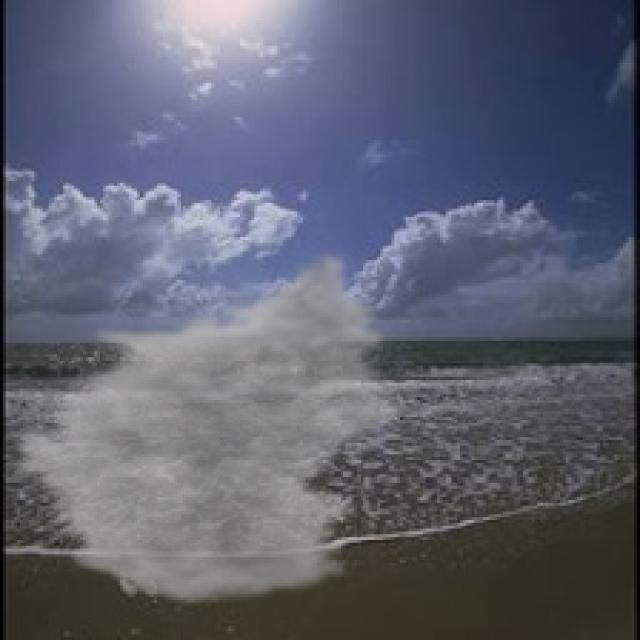Smoke: (0, 248, 415, 609)
